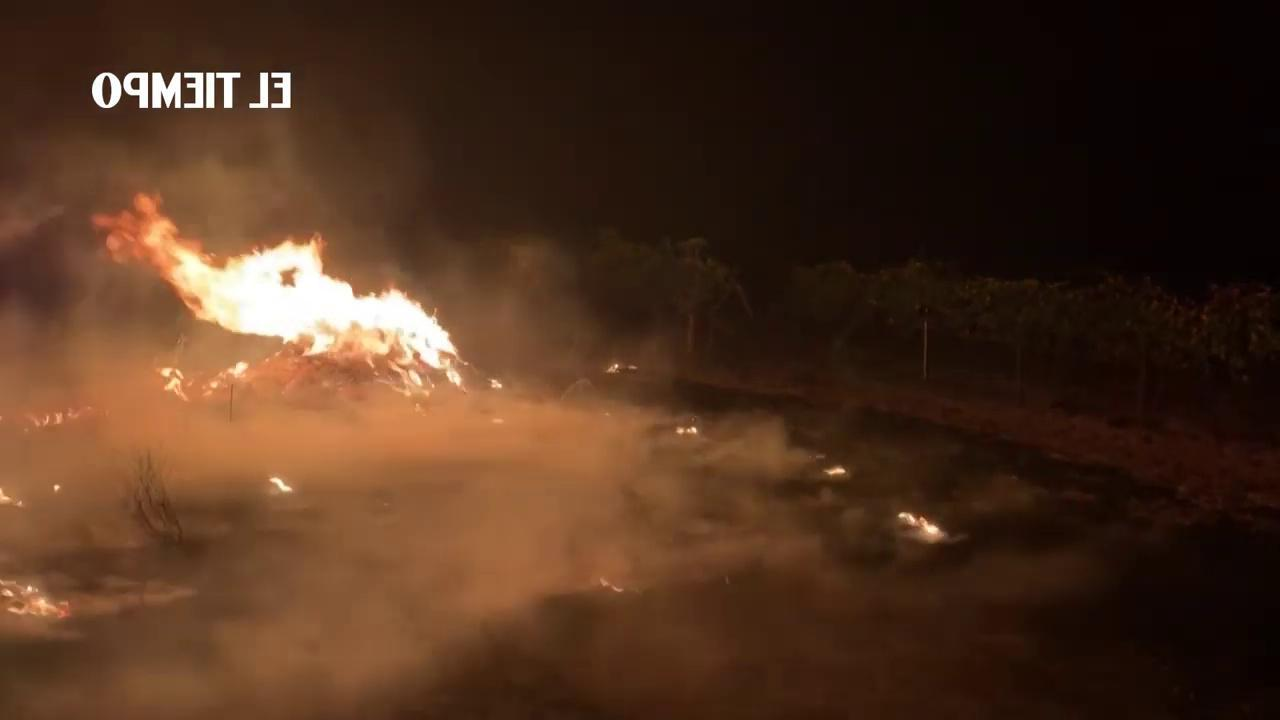Fire: (92, 204, 511, 395), (4, 571, 74, 629), (899, 509, 942, 540), (30, 405, 84, 428), (271, 474, 294, 495), (824, 466, 854, 478), (679, 420, 701, 436), (608, 359, 621, 375)
